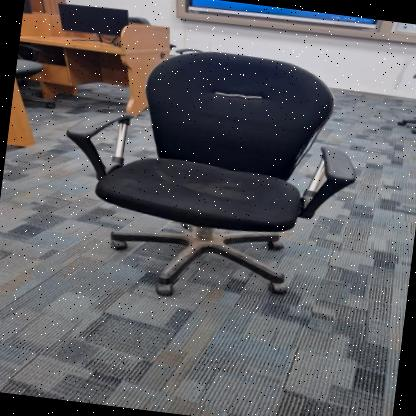chair: (38, 21, 373, 320)
